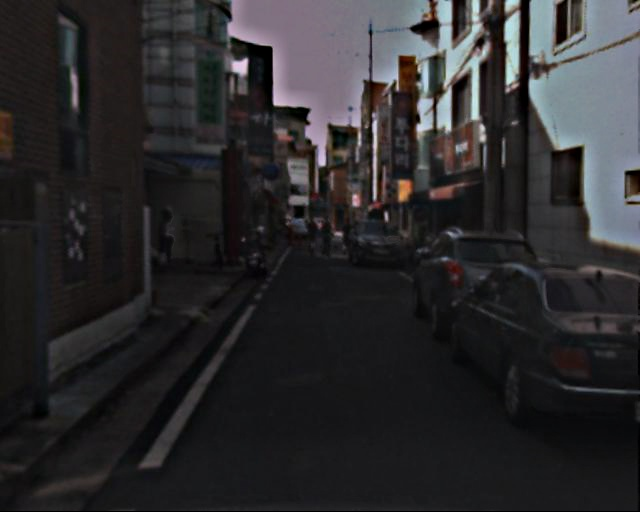person: (155, 202, 181, 265), (319, 212, 338, 258), (303, 212, 321, 257), (339, 212, 356, 253)
